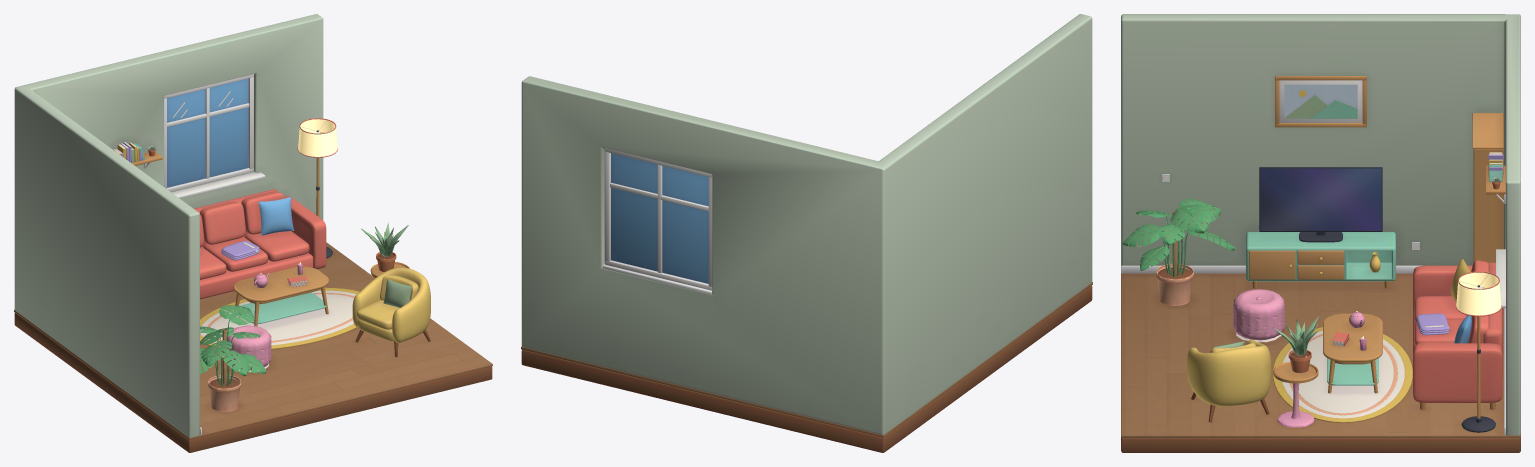
Rendered from living-room.glb.
The picture shows the model from 3 angles, left to right: view 1: azimuth 30°, elevation 25°; view 2: azimuth 150°, elevation 25°; view 3: azimuth 270°, elevation 25°; orthographic projection. The views are drawn at different scales.
Parts seen in each view (by area): view 1: living-room_body, living-room_floor_lamp_glow; view 2: living-room_body; view 3: living-room_body, living-room_tv_glow, living-room_floor_lamp_glow.
Boxes of the visible parts, x1=… form: living-room_body: x1=14, y1=14, x2=492, y2=452; living-room_floor_lamp_glow: x1=298, y1=119, x2=337, y2=156; living-room_body: x1=521, y1=14, x2=1092, y2=452; living-room_body: x1=1121, y1=14, x2=1520, y2=452; living-room_tv_glow: x1=1260, y1=168, x2=1381, y2=230; living-room_floor_lamp_glow: x1=1456, y1=272, x2=1501, y2=315.
Bounding box in the file's own units: 4 × 3 × 4.
5 materials, 2 textured.
